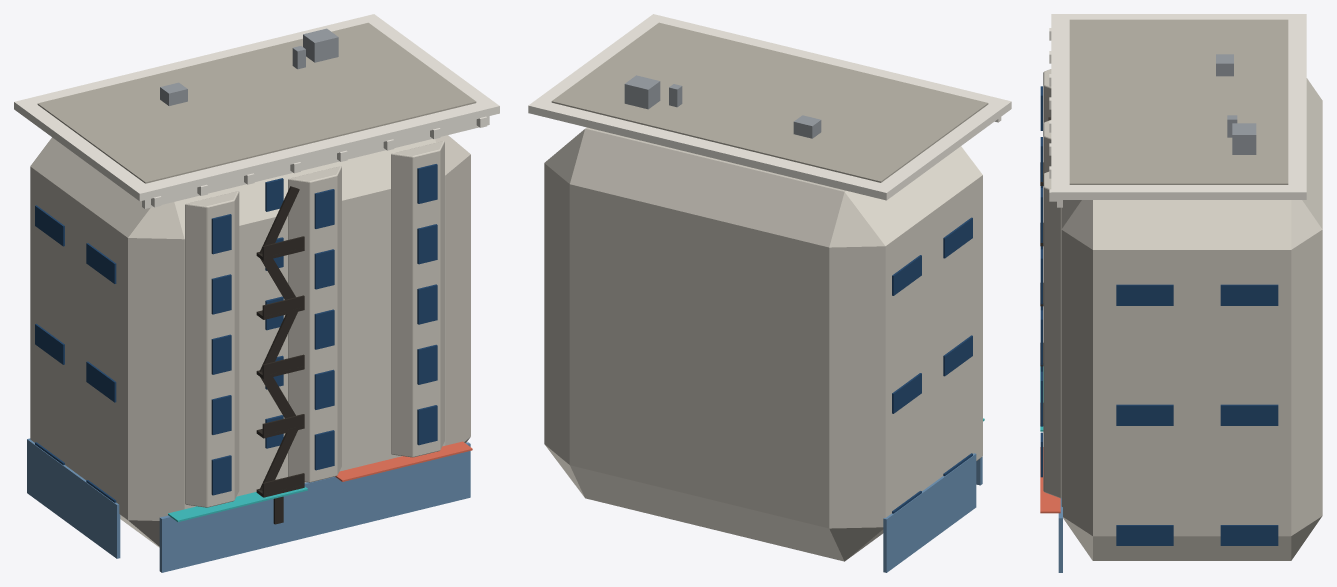
File: aptfe_corner_w20_f6.glb
The picture shows the model from 3 angles, left to right: view 1: azimuth 30°, elevation 25°; view 2: azimuth 150°, elevation 25°; view 3: azimuth 270°, elevation 25°; orthographic projection.
Parts seen in each view (by area): view 1: walls, roofslab, shop, bay, bay.002, corn, bay.001, shopside, frieze, awn.001, awn, hvac2 (+22 smaller); view 2: walls, roofslab, corn, shopside, hvac2, sb.008, sb.004, sb.010, sb.006; view 3: walls, roofslab, corn, bay.002, sb.007, sb.011, sb.005, sb.009, sb.003, sb.001, hvac2, awn.001 (+3 smaller).
Part boxes in pixels (x1=…): walls: x1=30, y1=135, x2=470, y2=547; roofslab: x1=37, y1=22, x2=476, y2=183; shop: x1=159, y1=442, x2=470, y2=572; bay: x1=185, y1=191, x2=239, y2=507; bay.002: x1=391, y1=141, x2=444, y2=457; corn: x1=14, y1=14, x2=499, y2=201; bay.001: x1=288, y1=166, x2=341, y2=482; shopside: x1=27, y1=438, x2=120, y2=558; frieze: x1=142, y1=116, x2=489, y2=208; awn.001: x1=335, y1=441, x2=472, y2=481; awn: x1=168, y1=486, x2=307, y2=521; hvac2: x1=303, y1=28, x2=338, y2=62; walls: x1=544, y1=127, x2=982, y2=561; roofslab: x1=551, y1=22, x2=988, y2=182; corn: x1=528, y1=14, x2=1011, y2=200; shopside: x1=883, y1=453, x2=976, y2=572; hvac2: x1=624, y1=75, x2=660, y2=109; sb.008: x1=943, y1=217, x2=972, y2=258; sb.004: x1=943, y1=335, x2=972, y2=376; sb.010: x1=892, y1=255, x2=921, y2=295; sb.006: x1=892, y1=373, x2=921, y2=413; walls: x1=1061, y1=78, x2=1322, y2=560; roofslab: x1=1069, y1=19, x2=1288, y2=184; corn: x1=1051, y1=14, x2=1306, y2=199; bay.002: x1=1043, y1=171, x2=1061, y2=498; sb.007: x1=1220, y1=404, x2=1278, y2=425; sb.011: x1=1220, y1=284, x2=1278, y2=305; sb.005: x1=1116, y1=404, x2=1173, y2=425; sb.009: x1=1116, y1=284, x2=1173, y2=305; sb.003: x1=1220, y1=525, x2=1278, y2=545; sb.001: x1=1116, y1=525, x2=1173, y2=545; hvac2: x1=1232, y1=123, x2=1256, y2=154; awn.001: x1=1040, y1=447, x2=1060, y2=513.
Size of the model in its own units: 21 by 22.8 by 14.05.
